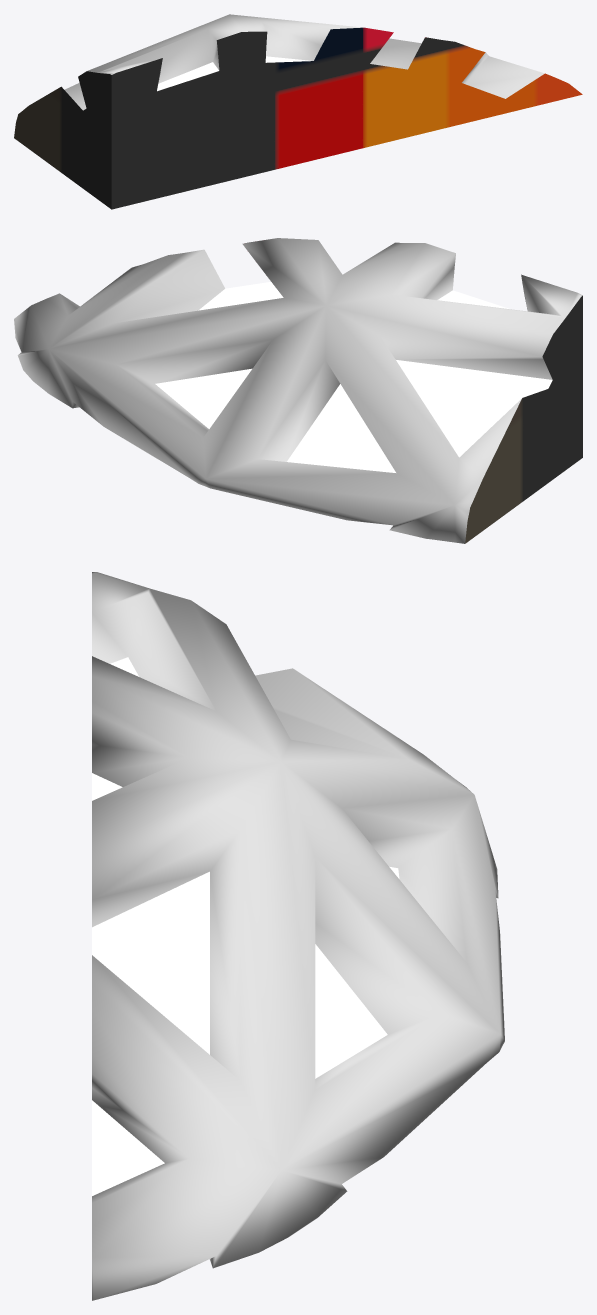
File: tile_8_1_4.gltf
3 renders of one model, top to bottom at view 1: azimuth 30°, elevation 25°; view 2: azimuth 150°, elevation 25°; view 3: azimuth 270°, elevation 25°, orthographic. The views are drawn at different scales.
Visible parts, largest first — view 1: Icosphere; view 2: Icosphere; view 3: Icosphere.
Boxes of the visible parts, x1,y1,x2,y2 form: Icosphere: (14, 14, 582, 209); Icosphere: (14, 238, 582, 543); Icosphere: (92, 572, 504, 1300).
Size of the model in its own units: 11.39 by 3.37 by 4.32.
Materials: 2 (1 with a texture image).
